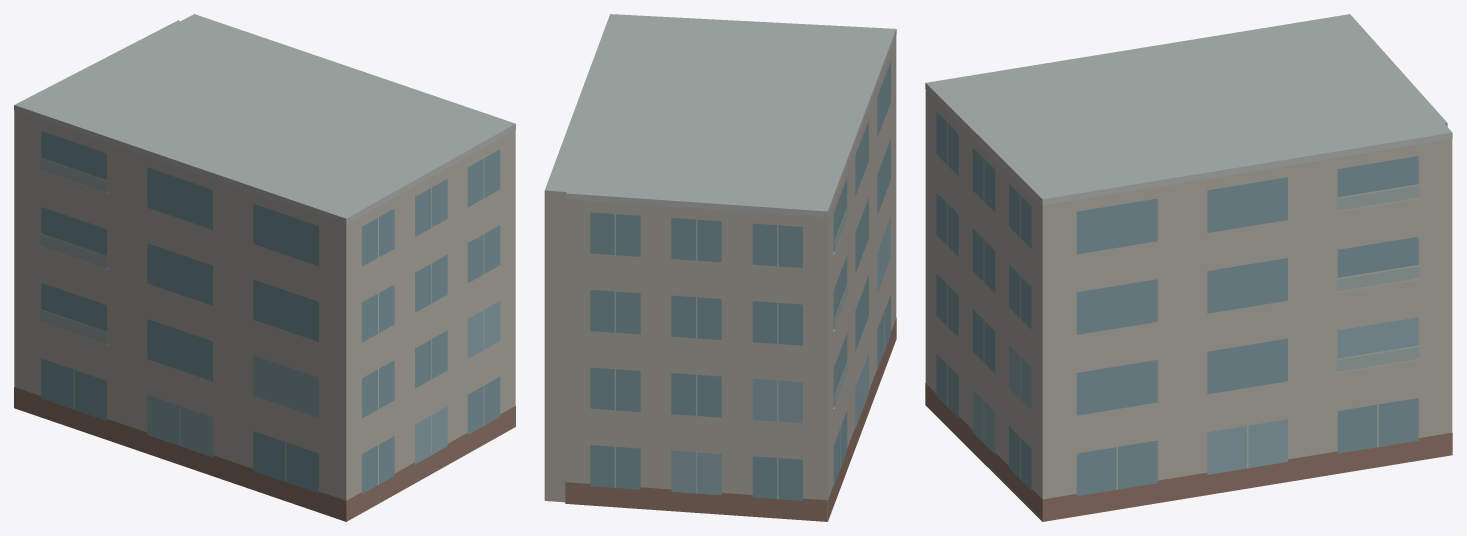
File: survey-upis-32832759.glb
3 renders of one model, left to right at view 1: azimuth 30°, elevation 25°; view 2: azimuth 150°, elevation 25°; view 3: azimuth 270°, elevation 25°, orthographic. The views are drawn at different scales.
Visible parts, largest first — view 1: survey-upis-32832759.tmp; view 2: survey-upis-32832759.tmp; view 3: survey-upis-32832759.tmp.
Boxes of the visible parts, x1,y1,x2,y2 form: survey-upis-32832759.tmp: (14,14,515,521); survey-upis-32832759.tmp: (544,14,896,521); survey-upis-32832759.tmp: (925,14,1452,521).
Size of the model in its own units: 15.54 by 12.6 by 18.66.
